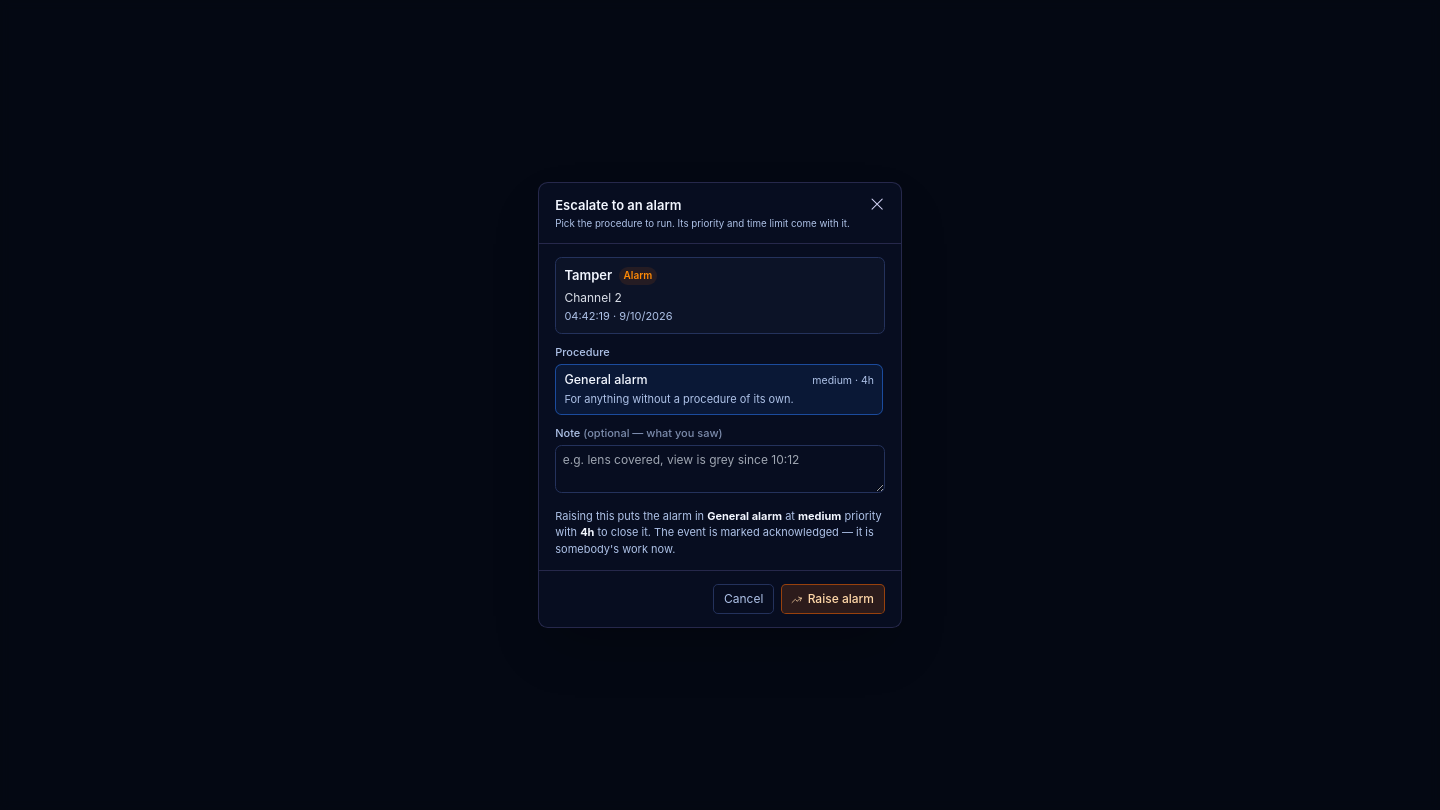
making it automatic › offers the rule once the alarm exists, not before
The width and height of the screenshot is (1440, 810).
Expected: the 1st text "General alarm" is shown, top-left (564, 371), bottom-right (648, 390)
Expected: the text "do this by itself" is not shown
Click the button "Raise alarm": [833, 599] box top-left (781, 584), bottom-right (885, 614)
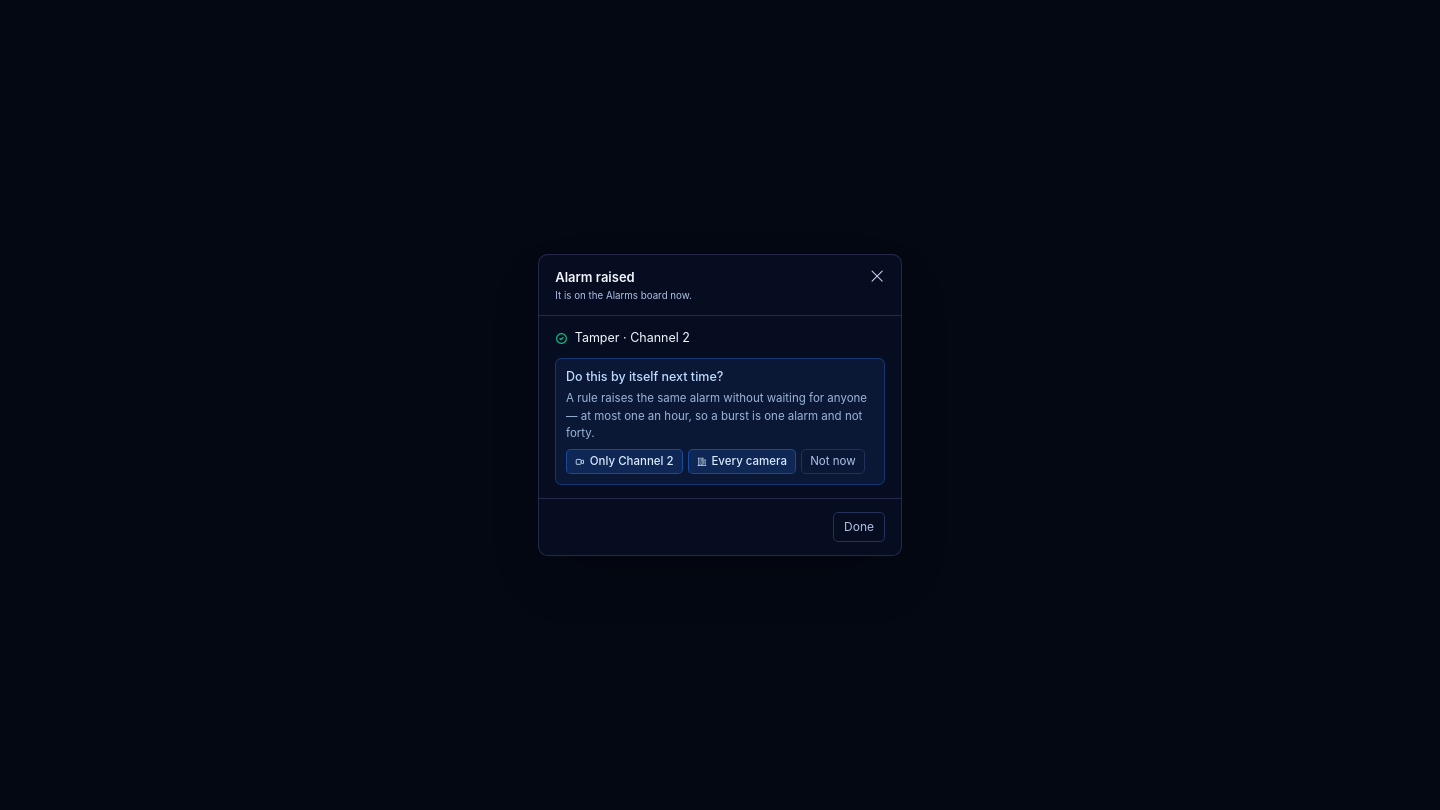
Now the text "Do this by itself next time?" is shown, box top-left (566, 369), bottom-right (723, 384)
